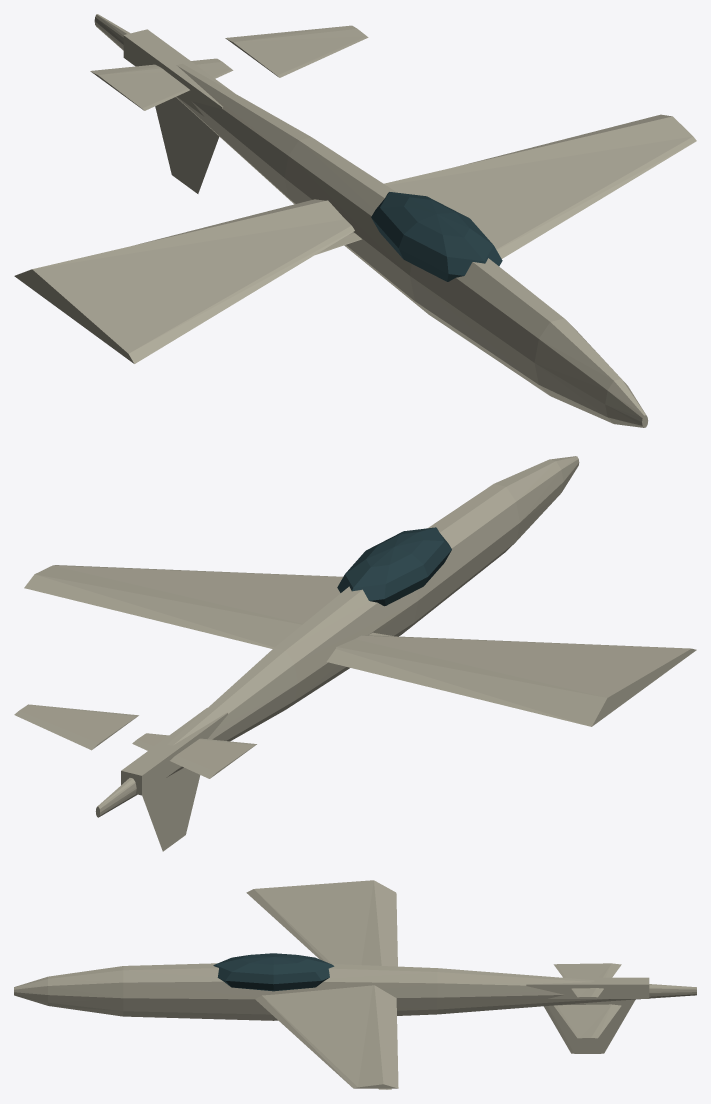
The picture shows the model from 3 angles, top to bottom: view 1: azimuth 30°, elevation 25°; view 2: azimuth 150°, elevation 25°; view 3: azimuth 270°, elevation 25°; orthographic projection. The views are drawn at different scales.
Parts seen in each view (by area): view 1: Fuselage, Wing_L, Wing_R, Cockpit, Elevator_R, Rudder, Elevator_L, TailBoom; view 2: Fuselage, Wing_L, Wing_R, Cockpit, Elevator_R, Rudder, TailBoom, Elevator_L; view 3: Fuselage, Wing_R, Wing_L, Cockpit, TailBoom, Rudder, Elevator_R, Elevator_L.
Boxes of the visible parts, x1,y1,x2,y2 form: Fuselage: [94, 14, 648, 427]; Wing_L: [14, 199, 354, 363]; Wing_R: [384, 114, 696, 258]; Cockpit: [371, 192, 502, 281]; Elevator_R: [225, 25, 368, 77]; Rudder: [155, 97, 219, 193]; Elevator_L: [90, 58, 233, 110]; TailBoom: [123, 29, 233, 116]; Fuselage: [95, 456, 579, 817]; Wing_L: [326, 635, 696, 726]; Wing_R: [24, 565, 342, 648]; Cockpit: [337, 527, 451, 606]; Elevator_R: [14, 704, 138, 750]; Rudder: [142, 767, 200, 851]; TailBoom: [121, 707, 227, 795]; Elevator_L: [132, 733, 256, 778]; Fuselage: [14, 963, 696, 1020]; Wing_R: [255, 985, 398, 1088]; Wing_L: [246, 880, 397, 966]; Cockpit: [213, 953, 334, 991]; TailBoom: [526, 977, 649, 998]; Rudder: [544, 999, 635, 1053]; Elevator_R: [554, 1004, 621, 1038]; Elevator_L: [553, 963, 621, 997].
Size of the model in its own units: 16.8 by 3.84 by 24.59.
